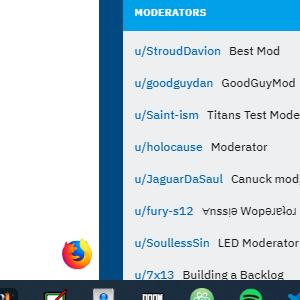firefox: (62, 238, 92, 269)
